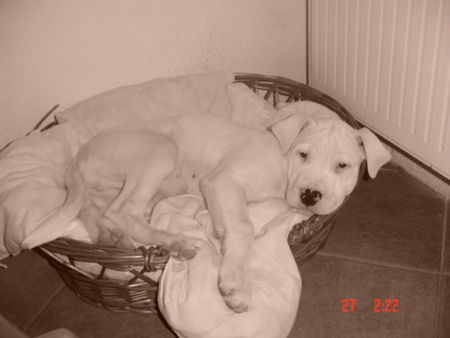dogo_argentino: (20, 113, 392, 313)
